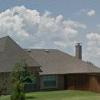Chimney: (69, 39, 93, 62)
